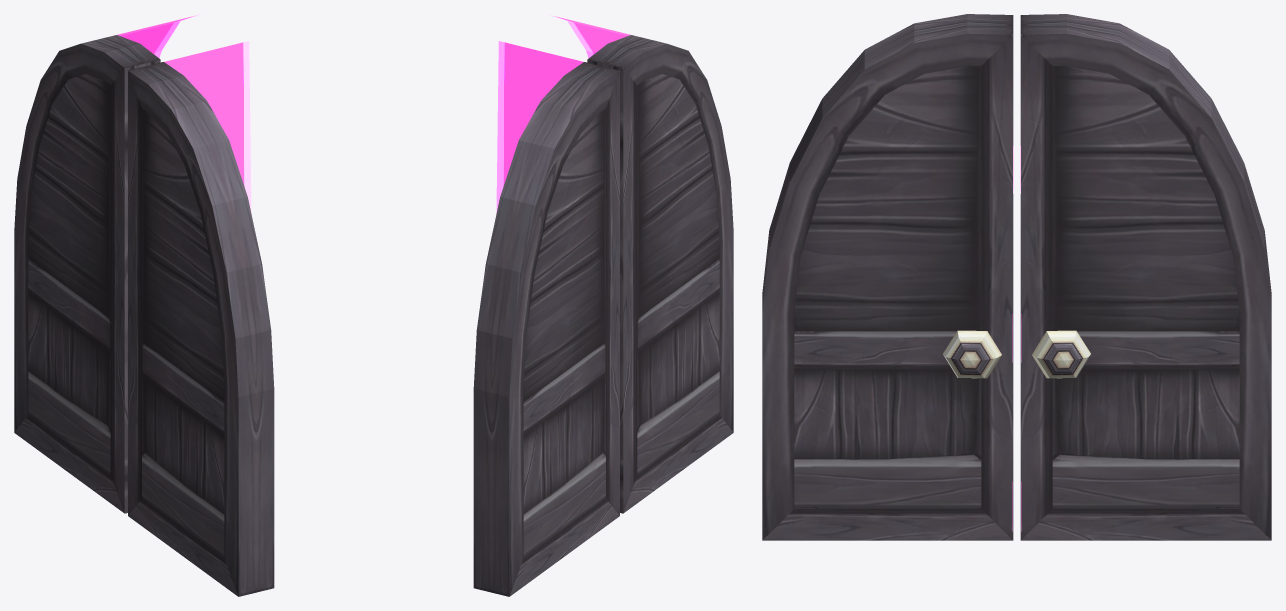
File: upper_door.glb
The picture shows the model from 3 angles, left to right: view 1: azimuth 30°, elevation 25°; view 2: azimuth 150°, elevation 25°; view 3: azimuth 270°, elevation 25°; orthographic projection. The views are drawn at different scales.
Visible parts, largest first — view 1: doors_upstairs, door_lights; view 2: doors_upstairs, door_lights; view 3: doors_upstairs.
Boxes of the visible parts, x1,y1,x2,y2 form: doors_upstairs: (14,35,274,596); door_lights: (117,14,251,213); doors_upstairs: (473,35,733,596); door_lights: (496,14,630,213); doors_upstairs: (762,14,1271,540).
Size of what is drawn, in the model's own units: 1.35 by 4.58 by 4.12.
Materials: 2 (2 with a texture image).
